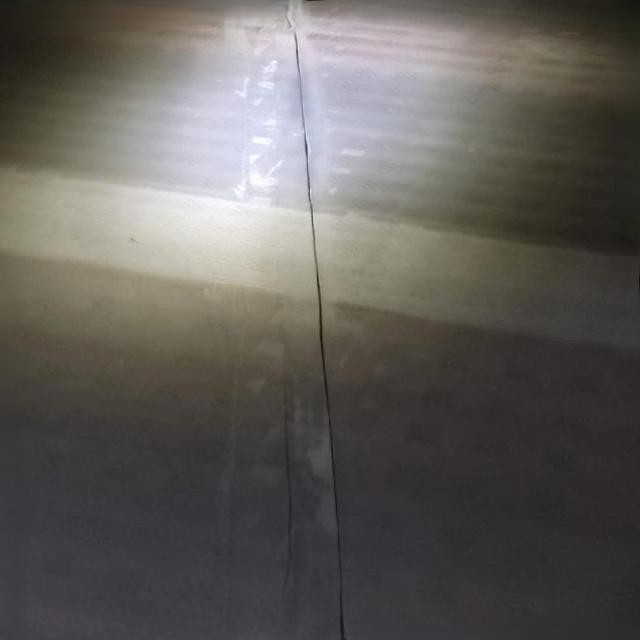Tear: (276, 0, 352, 640)
